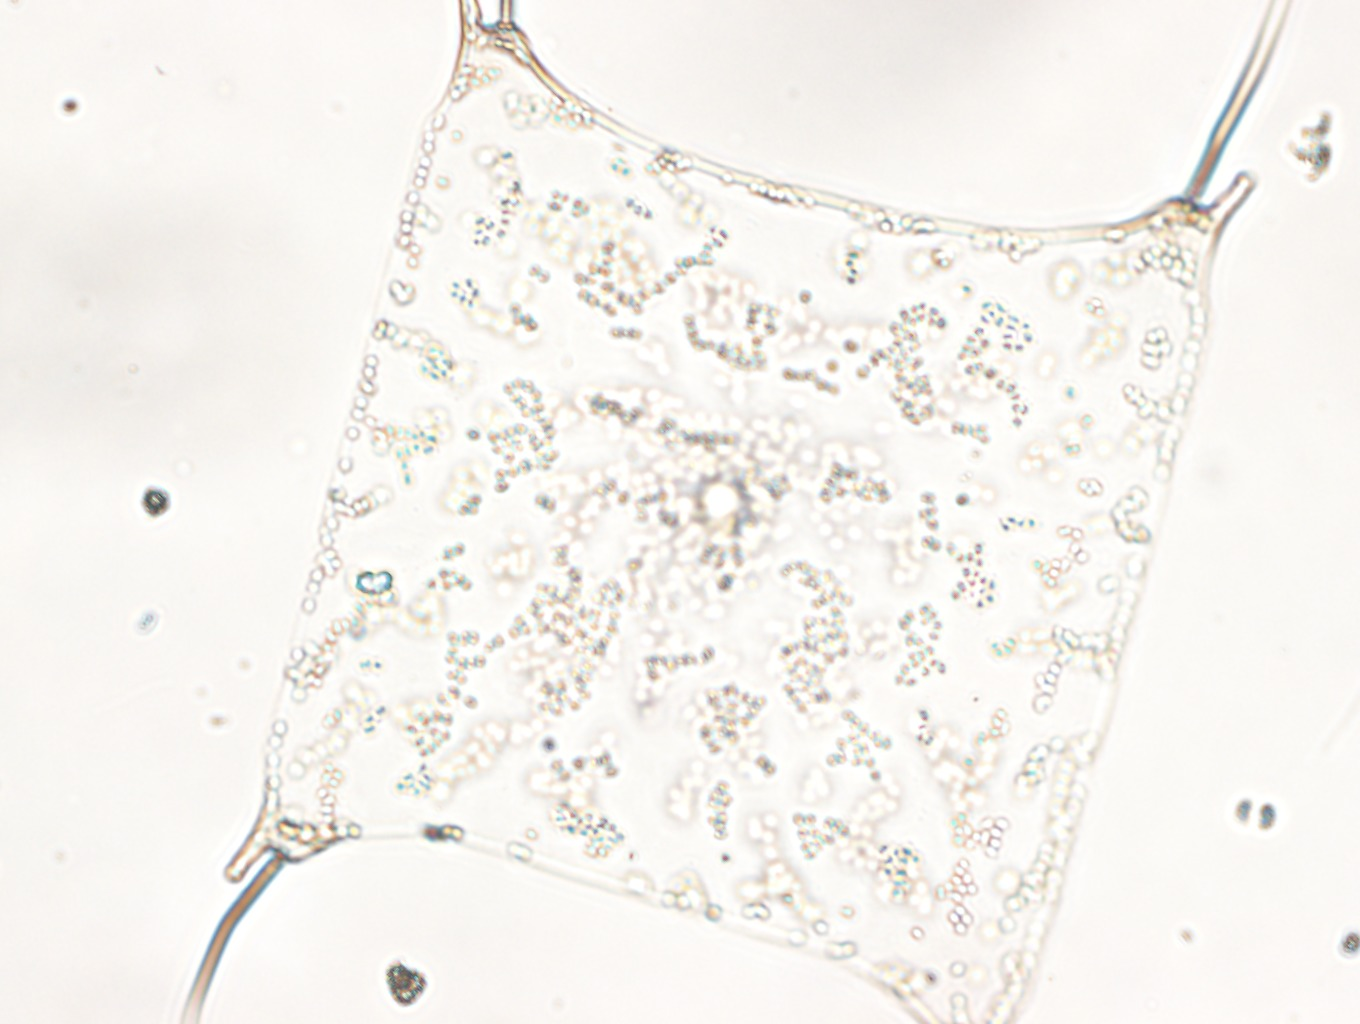biddulphia: (169, 1, 1295, 1021)
